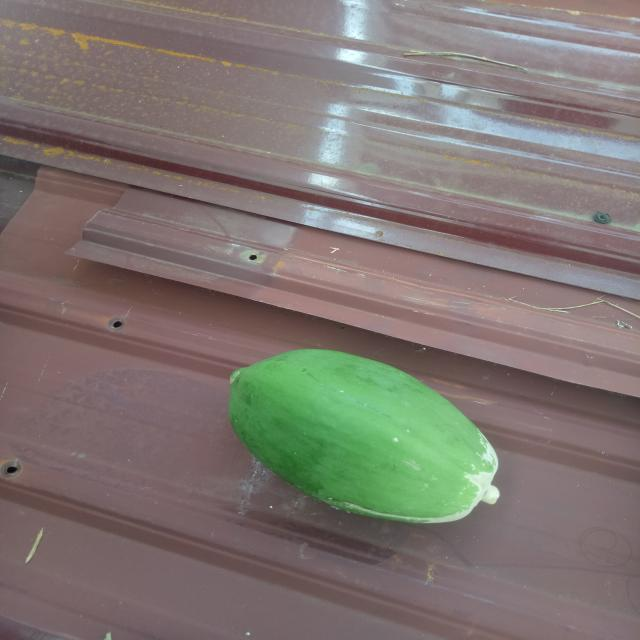Pepaya unrippen: (224, 352, 506, 530)
